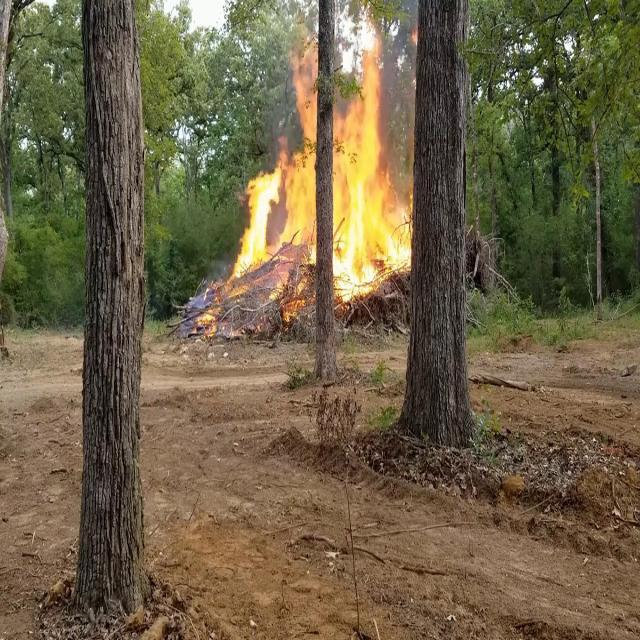Fire: (236, 25, 412, 298), (191, 266, 237, 328)
